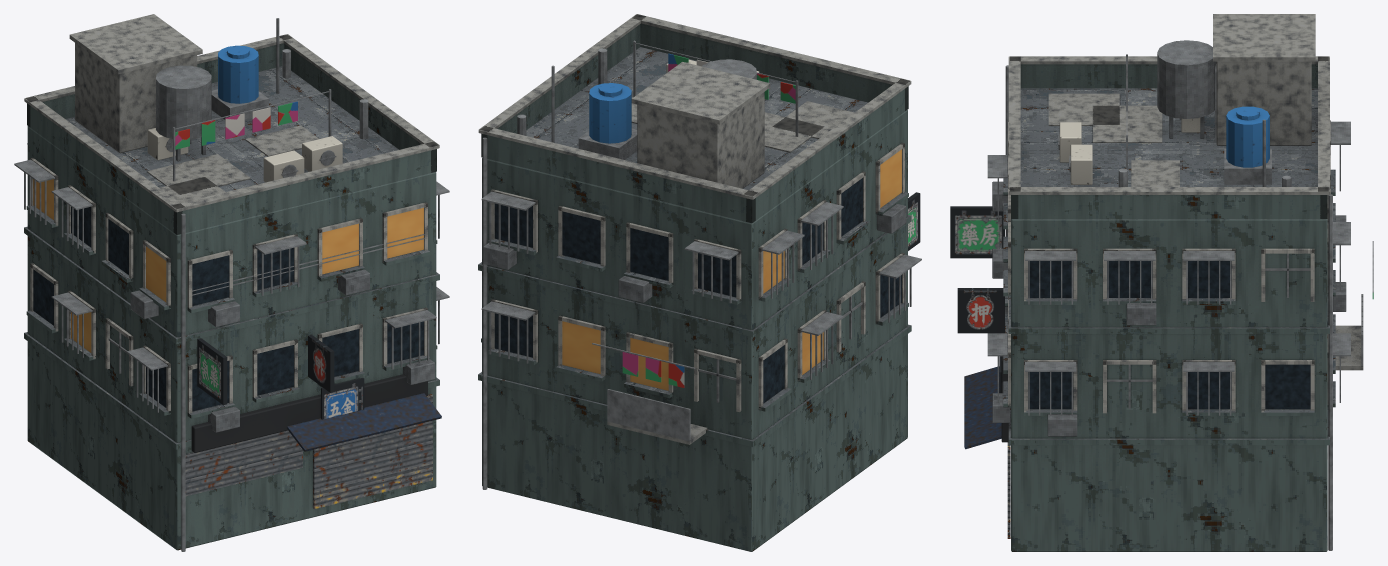
The model's file is city_shop_house_lower.glb.
The picture shows the model from 3 angles, left to right: view 1: azimuth 30°, elevation 25°; view 2: azimuth 150°, elevation 25°; view 3: azimuth 270°, elevation 25°; orthographic projection. The views are drawn at different scales.
Visible parts, largest first — view 1: city_shop_house_lower; view 2: city_shop_house_lower; view 3: city_shop_house_lower.
Part boxes in pixels (x1,y1,x2,y2): city_shop_house_lower: [14, 14, 449, 551]; city_shop_house_lower: [478, 14, 921, 551]; city_shop_house_lower: [950, 14, 1373, 551].
Bounding box in the file's own units: 9.19 × 11.82 × 10.7.
Materials: 17 (17 with a texture image).
